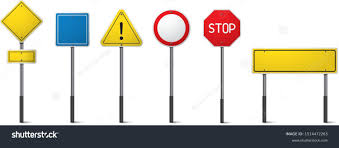stop sign: (204, 10, 241, 47)
